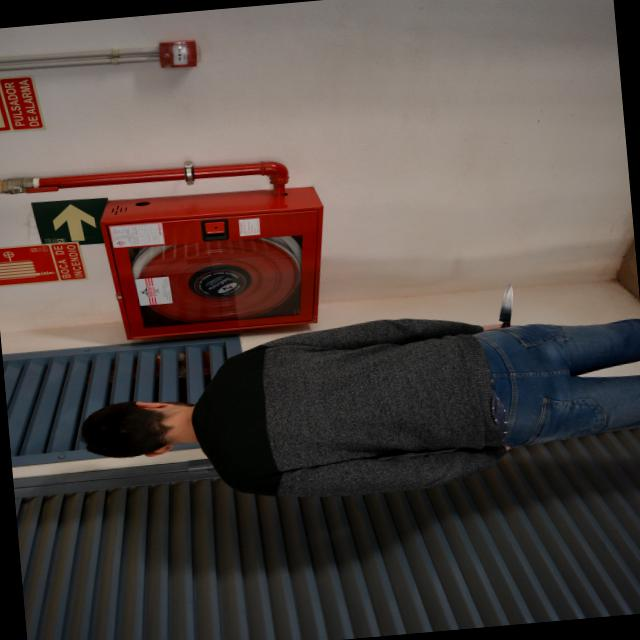knife: (488, 278, 518, 326)
